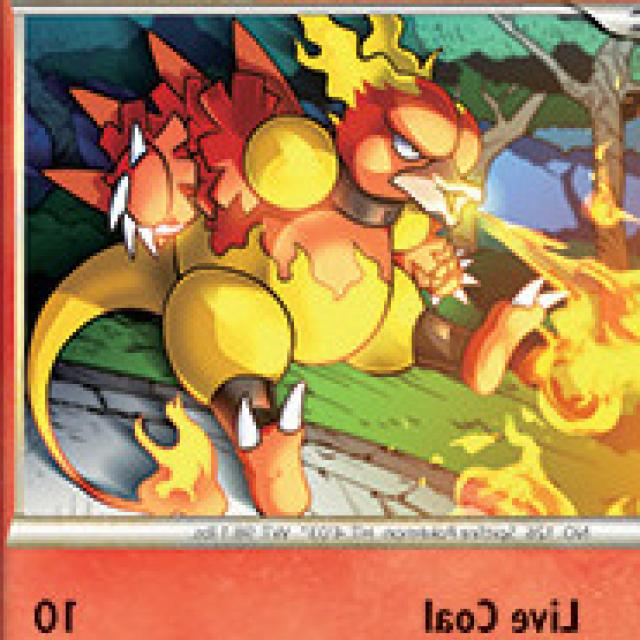Magmar: (83, 14, 532, 466)
